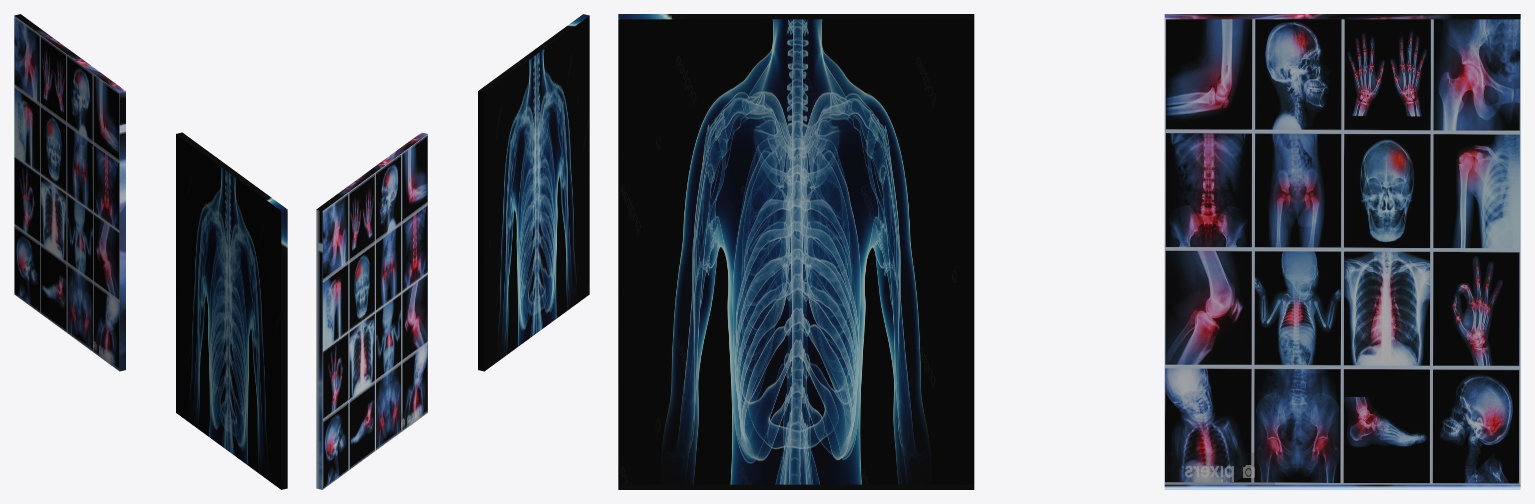
Rendered from radialogy poster.fbx.
The picture shows the model from 3 angles, left to right: view 1: azimuth 30°, elevation 25°; view 2: azimuth 150°, elevation 25°; view 3: azimuth 270°, elevation 25°; orthographic projection. The views are drawn at different scales.
Visible parts, largest first — view 1: poster 3.001, poster 3.002; view 2: poster 3.001, poster 3.002; view 3: poster 3.001, poster 3.002.
Boxes of the visible parts, x1,y1,x2,y2 form: poster 3.001: (176, 132, 287, 489); poster 3.002: (14, 14, 125, 371); poster 3.001: (478, 14, 589, 371); poster 3.002: (316, 132, 427, 489); poster 3.001: (618, 14, 974, 489); poster 3.002: (1164, 14, 1520, 489).
Bounding box in the file's own units: 0.0175 × 0.7282 × 1.27.
